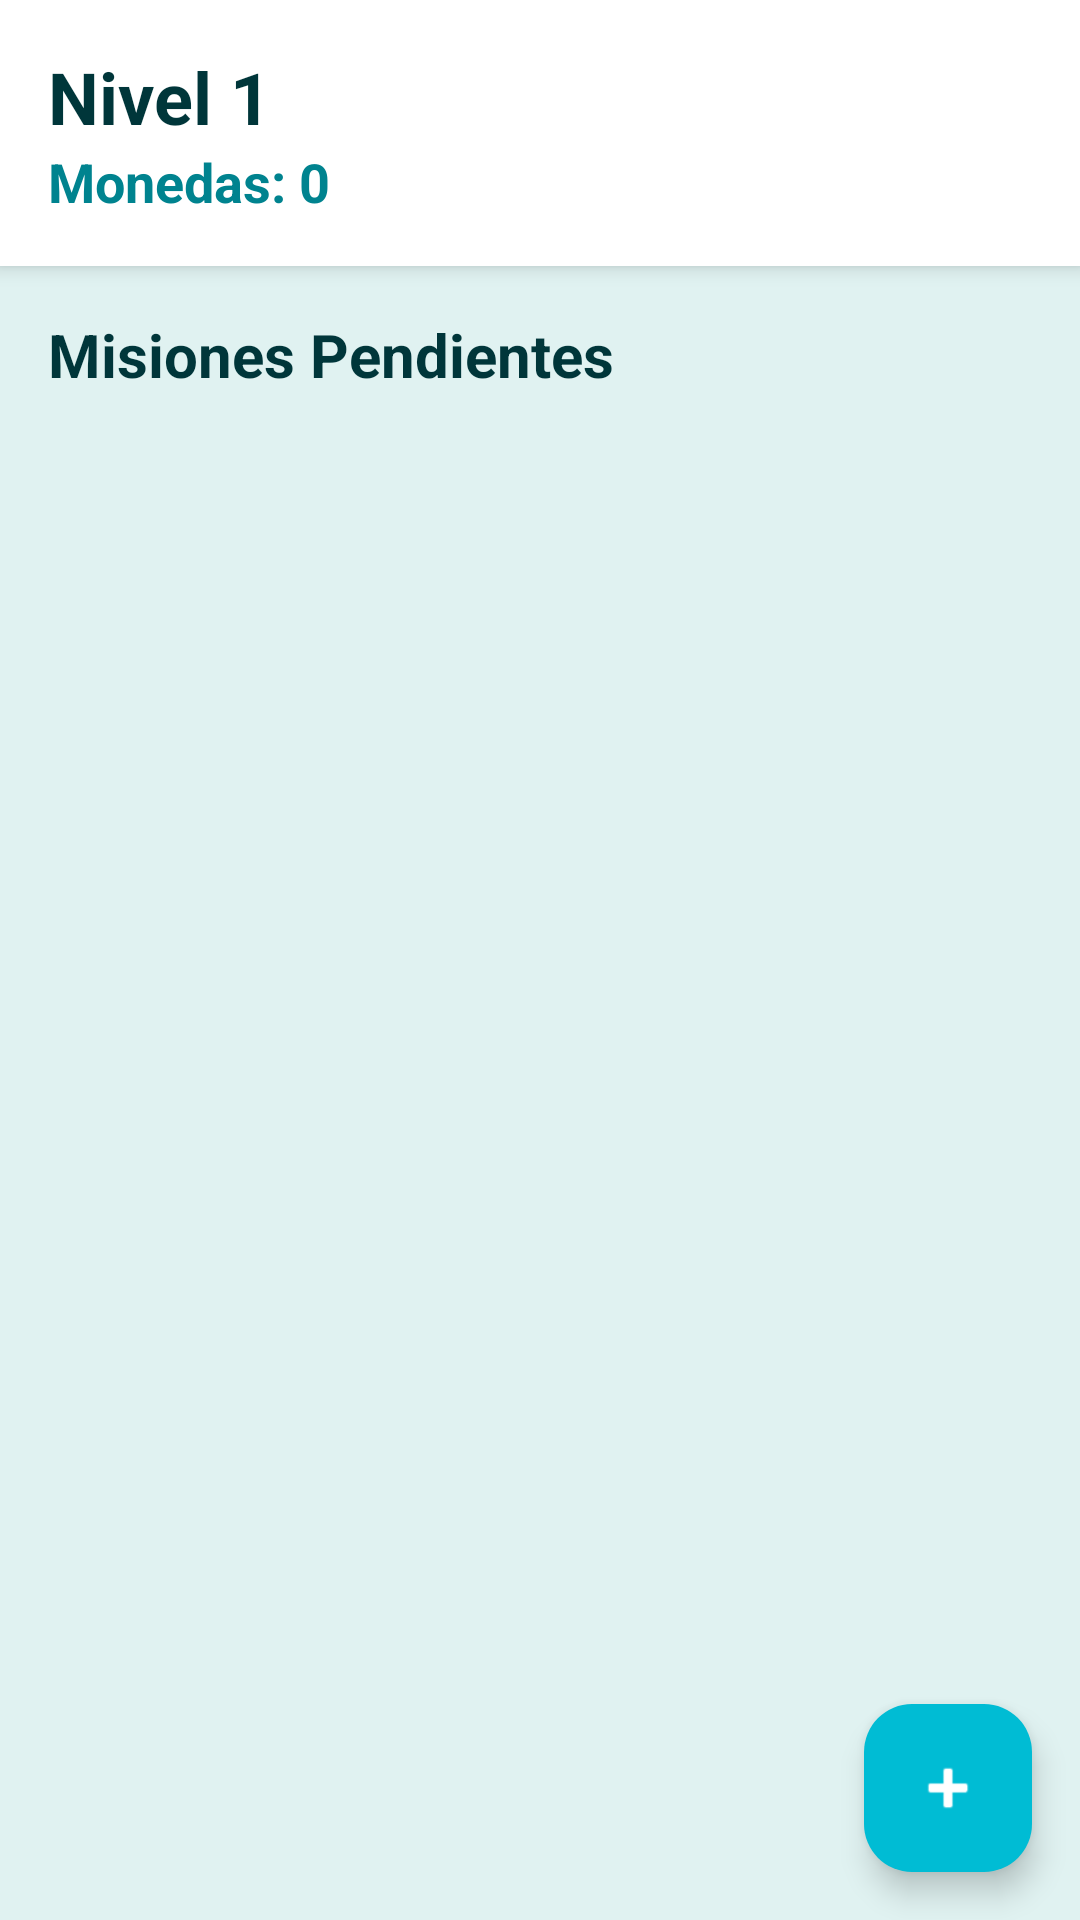

Icons on this 1080w x 1920h Android screen, each with the point to tap as [x,y]:
Añadir tarea: [948,1788]
